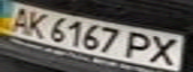1: (63, 18, 84, 47)
6: (78, 21, 103, 53), (42, 15, 69, 44)
7: (100, 25, 124, 55)
A: (3, 4, 36, 34)
K: (21, 9, 51, 38)
P: (124, 29, 160, 61)
X: (145, 34, 187, 68)
